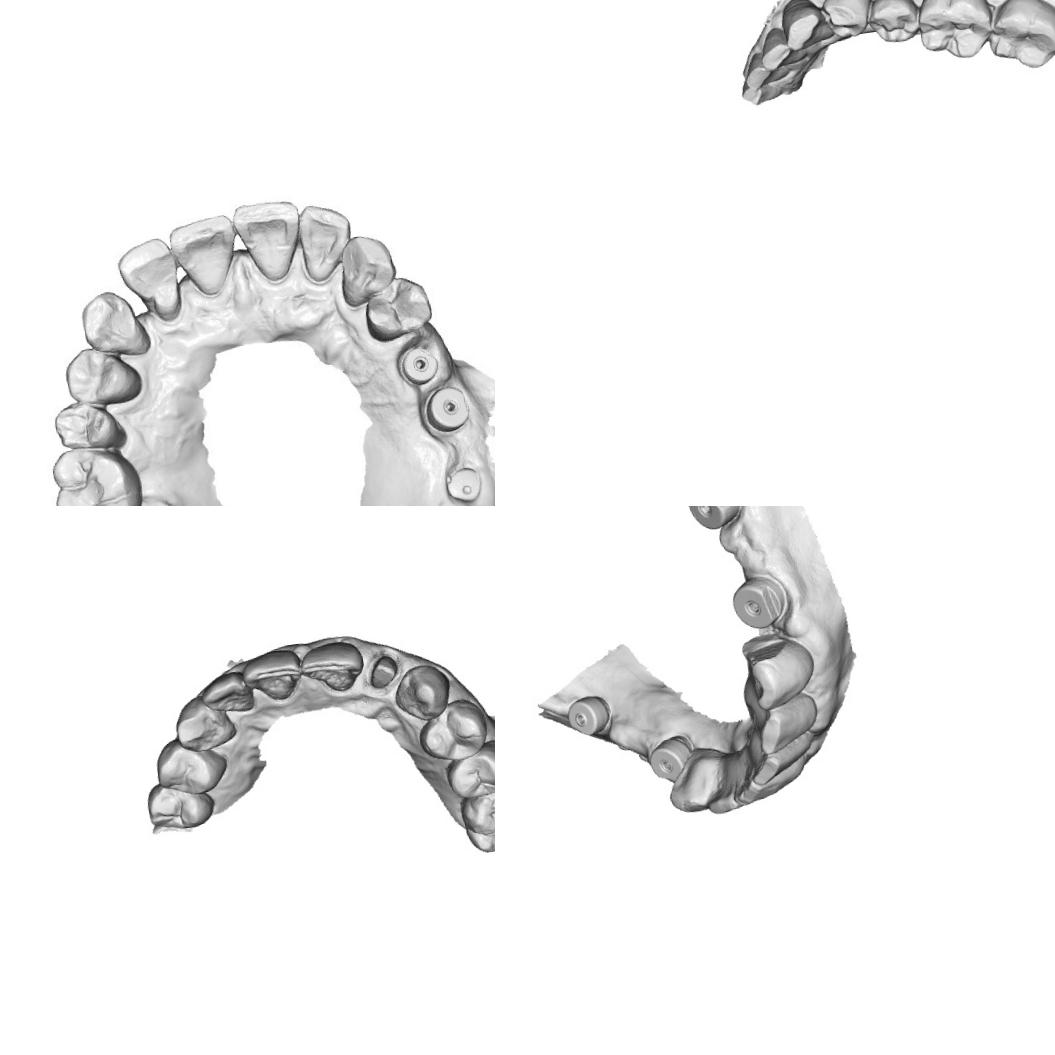canine: (738, 627, 820, 711), (78, 284, 158, 366), (333, 235, 398, 316), (169, 690, 239, 756), (390, 661, 455, 725), (665, 766, 722, 816), (776, 0, 829, 53)
crown: (362, 648, 404, 694)
implant: (728, 573, 792, 632), (424, 382, 474, 437), (646, 732, 694, 785), (564, 692, 615, 740), (440, 458, 488, 505), (392, 338, 440, 383), (682, 506, 749, 534)
incisor: (164, 211, 244, 303), (232, 197, 302, 289), (118, 236, 186, 320), (753, 692, 824, 756), (296, 200, 350, 284), (298, 637, 368, 698), (238, 645, 307, 706), (197, 668, 257, 718), (754, 23, 794, 74), (748, 747, 795, 787), (730, 776, 787, 808), (738, 48, 778, 92), (707, 782, 742, 818)
molar: (45, 440, 151, 506), (910, 0, 998, 65), (980, 0, 1055, 75), (457, 777, 495, 856)
premolar: (358, 270, 440, 348), (150, 730, 230, 802), (414, 696, 492, 766), (65, 346, 146, 409), (53, 396, 136, 456), (143, 775, 218, 834), (443, 737, 495, 801), (862, 0, 926, 48), (816, 0, 876, 42)
